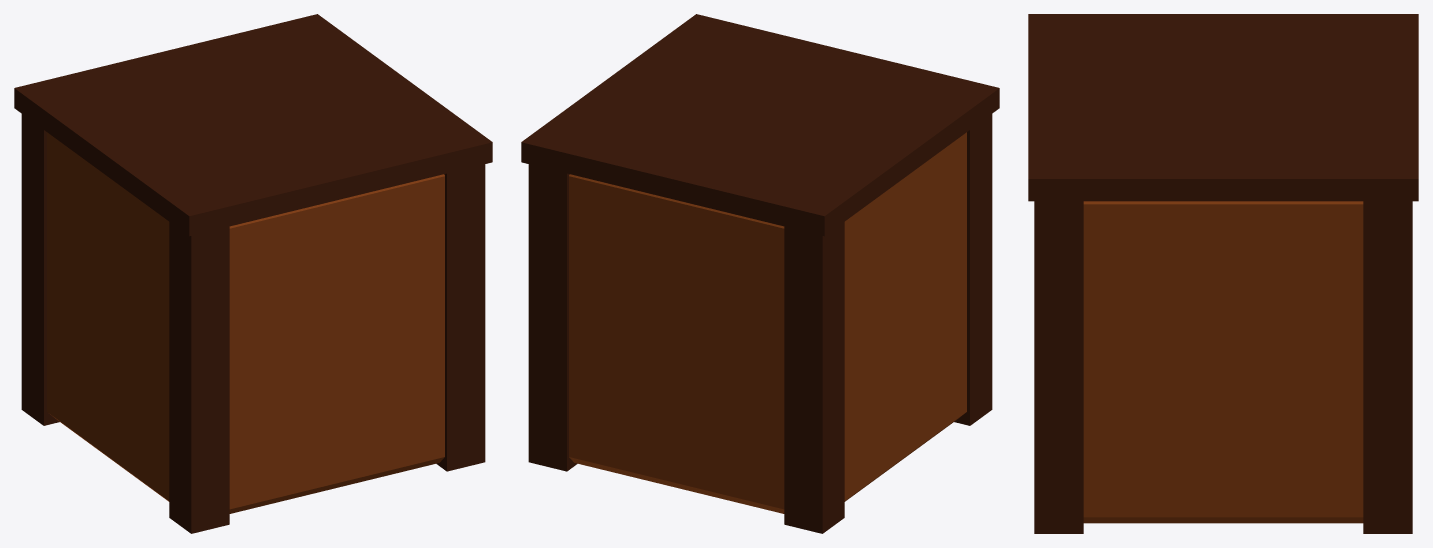
Rendered from crate.glb.
The picture shows the model from 3 angles, left to right: view 1: azimuth 30°, elevation 25°; view 2: azimuth 150°, elevation 25°; view 3: azimuth 270°, elevation 25°; orthographic projection. The views are drawn at different scales.
Parts seen in each view (by area): view 1: crate; view 2: crate; view 3: crate.
Part boxes in pixels (x1,y1,x2,y2): crate: (14,14,492,533); crate: (521,14,999,533); crate: (1028,14,1418,533).
Size of the model in its own units: 0.95 by 0.96 by 0.95.
